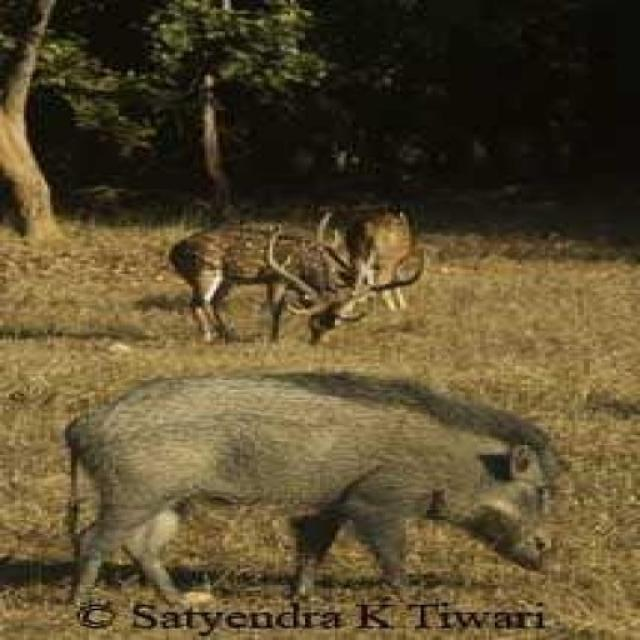pig: (52, 341, 571, 621)
